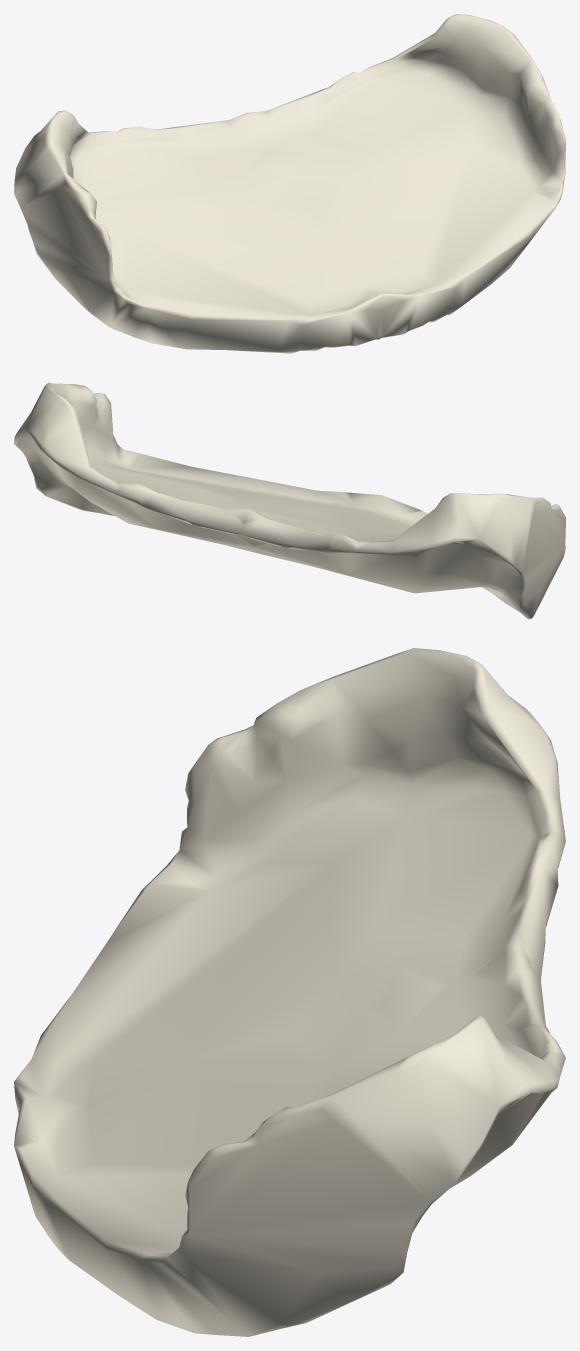
3 renders of one model, top to bottom at view 1: azimuth 30°, elevation 25°; view 2: azimuth 150°, elevation 25°; view 3: azimuth 270°, elevation 25°, orthographic. The views are drawn at different scales.
Visible parts, largest first — view 1: ZA_45571f60ffbea153; view 2: ZA_45571f60ffbea153; view 3: ZA_45571f60ffbea153.
Part boxes in pixels (x1,y1,x2,y2): ZA_45571f60ffbea153: [14, 14, 565, 353]; ZA_45571f60ffbea153: [14, 382, 565, 619]; ZA_45571f60ffbea153: [14, 648, 565, 1336].
Bounding box in the file's own units: 0.034 × 0.0123 × 0.0177.
